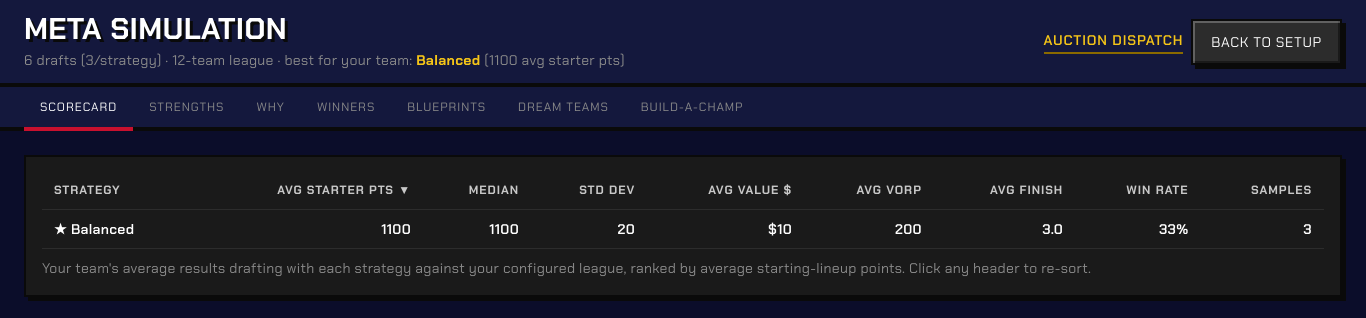
it: MetaSimulationReport — Winners & Points tabs › renders empty states when there are no winning rosters
The width and height of the screenshot is (1366, 318).
Click the button "Blueprints".
click(447, 109)  # box [391,87,502,131]
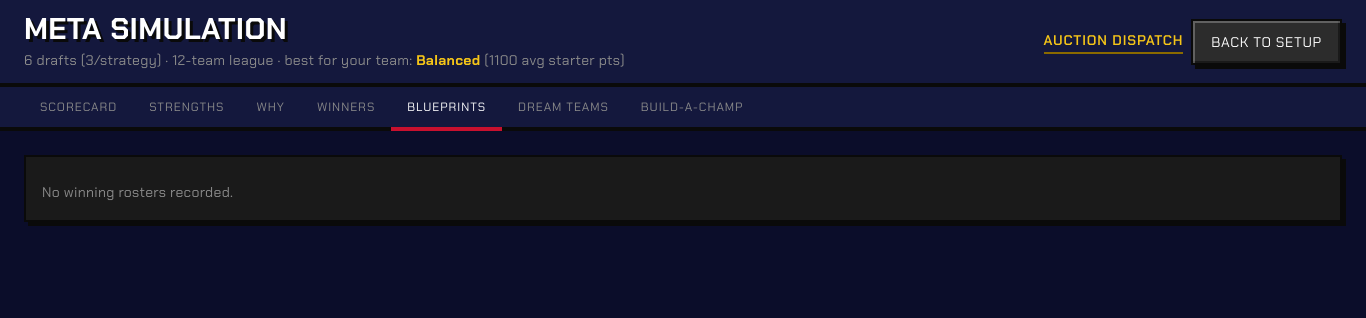
Now the text "No winning rosters recorded." is shown, box [42,183,233,201]
Click the button "Dream Teams".
click(563, 109)  # box [502,87,625,131]
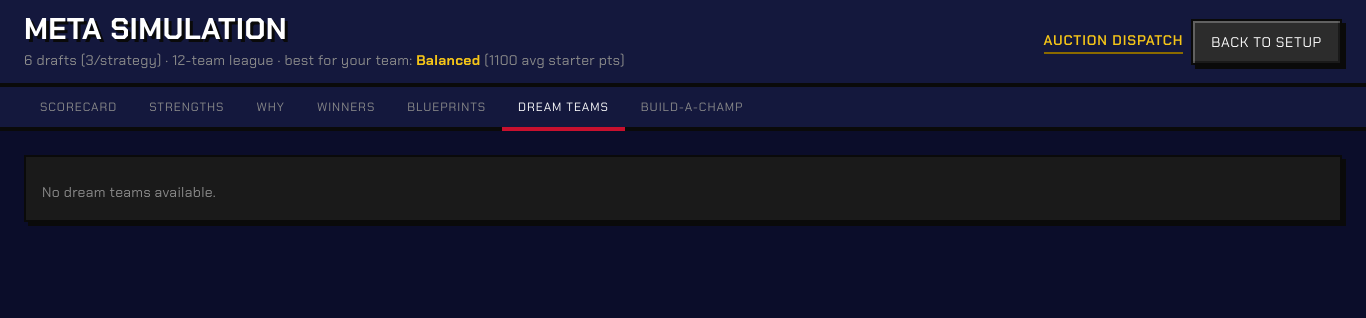
Now the text "No dream teams available." is shown, box [42,183,216,201]
